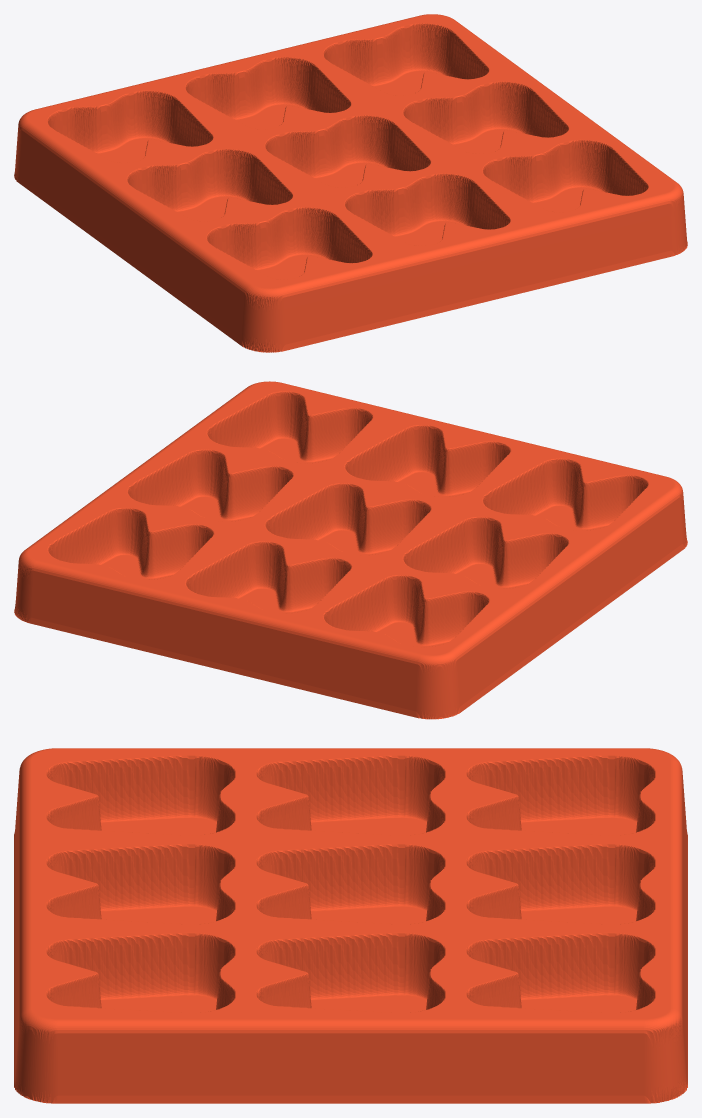
Rendered from mold.glb.
The picture shows the model from 3 angles, top to bottom: view 1: azimuth 30°, elevation 25°; view 2: azimuth 150°, elevation 25°; view 3: azimuth 270°, elevation 25°; orthographic projection. The views are drawn at different scales.
Parts seen in each view (by area): view 1: geometry_0; view 2: geometry_0; view 3: geometry_0.
Part boxes in pixels (x1=…): geometry_0: x1=14, y1=14, x2=687, y2=352; geometry_0: x1=14, y1=381, x2=687, y2=719; geometry_0: x1=14, y1=748, x2=687, y2=1103.
Bounding box in the file's own units: 0.1387 × 0.0175 × 0.1387.
